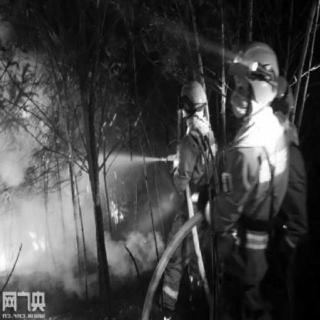Fire: (4, 206, 68, 274), (98, 186, 130, 236)
